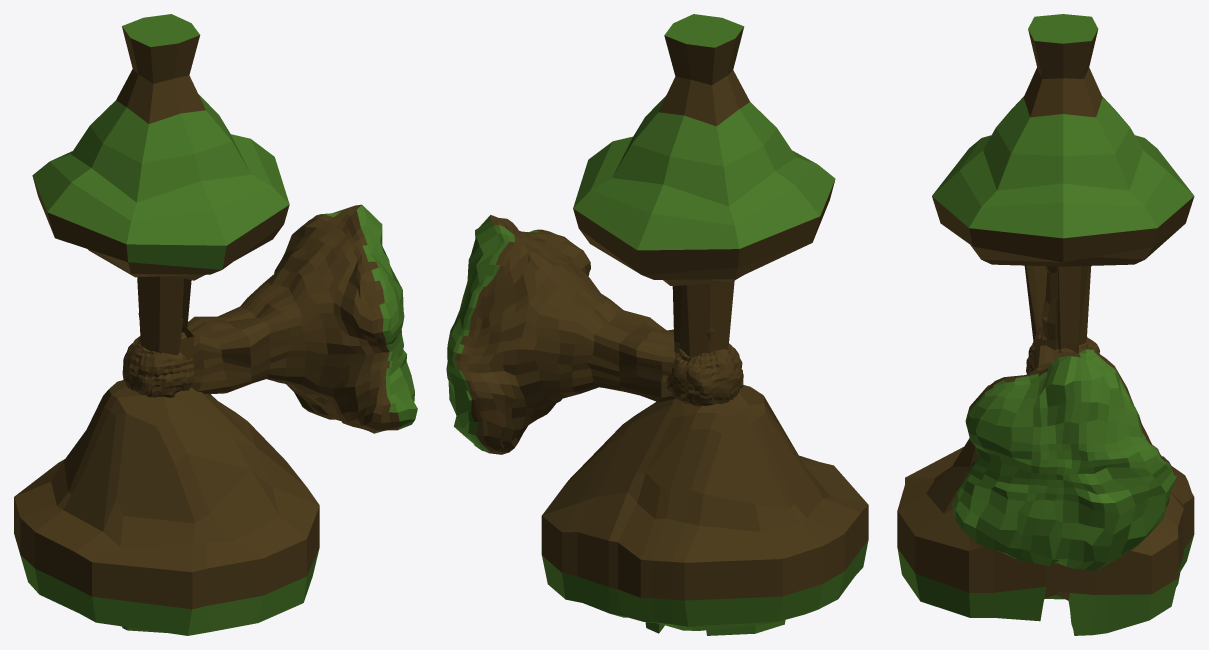
Rendered from LakePlanet.fbx.
The picture shows the model from 3 angles, left to right: view 1: azimuth 30°, elevation 25°; view 2: azimuth 150°, elevation 25°; view 3: azimuth 270°, elevation 25°; orthographic projection. The views are drawn at different scales.
Parts seen in each view (by area): view 1: LakePlanet; view 2: LakePlanet; view 3: LakePlanet.
Part boxes in pixels (left/top/right/bottom): LakePlanet: left=14, top=14, right=417, bottom=635; LakePlanet: left=446, top=14, right=868, bottom=635; LakePlanet: left=897, top=14, right=1194, bottom=635.
Size of the model in its own units: 173 by 260 by 123.
